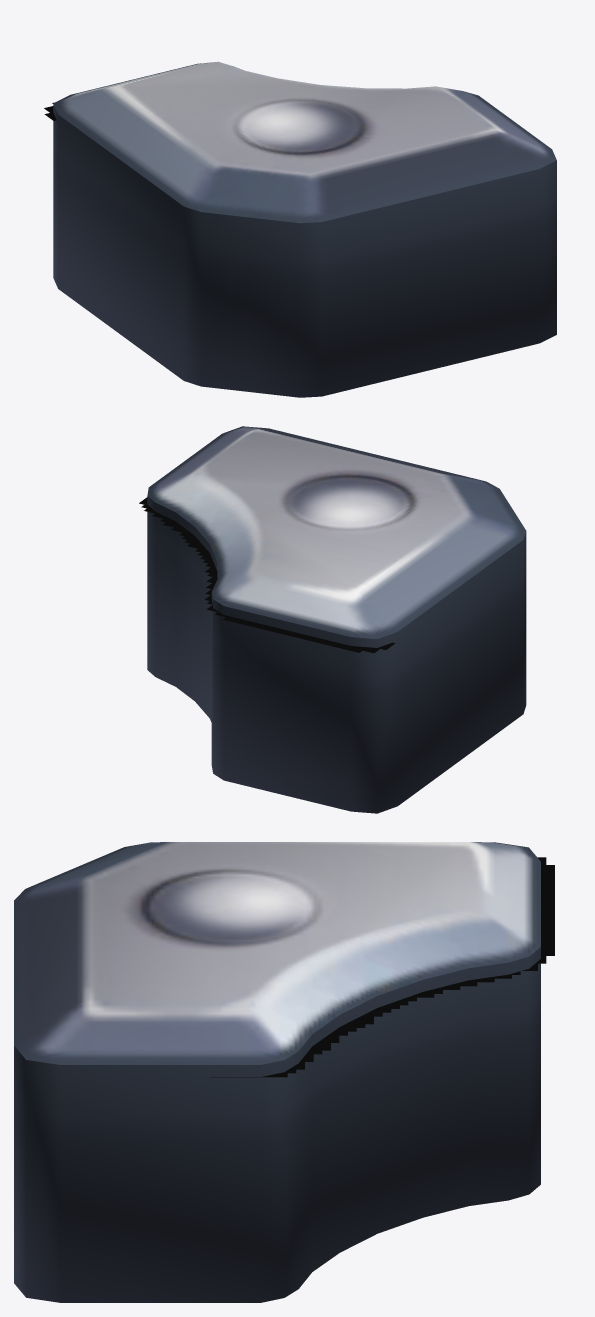
File: StationaryBlock_BottomLeft.obj
3 views of the same model, one above another, from view 1: azimuth 30°, elevation 25°; view 2: azimuth 150°, elevation 25°; view 3: azimuth 270°, elevation 25° (orthographic). The views are drawn at different scales.
Visible parts, largest first — view 1: StationaryBlock_BottomLeft_sub0; view 2: StationaryBlock_BottomLeft_sub0, StationaryBlock_BottomLeft_sub1; view 3: StationaryBlock_BottomLeft_sub0, StationaryBlock_BottomLeft_sub1.
Boxes of the visible parts, x1,y1,x2,y2 form: StationaryBlock_BottomLeft_sub0: (53,61,556,397); StationaryBlock_BottomLeft_sub0: (147,426,526,813); StationaryBlock_BottomLeft_sub1: (139,497,394,653); StationaryBlock_BottomLeft_sub0: (14,842,540,1302); StationaryBlock_BottomLeft_sub1: (210,857,554,1077).
Bounding box in the file's own units: 0.3483 × 0.1802 × 0.3441.
